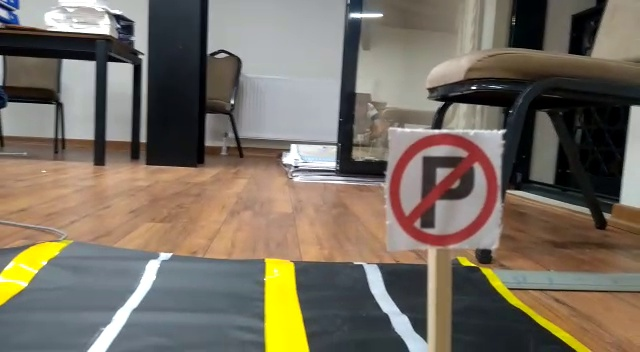park_yapilmaz: (387, 129, 499, 249)
